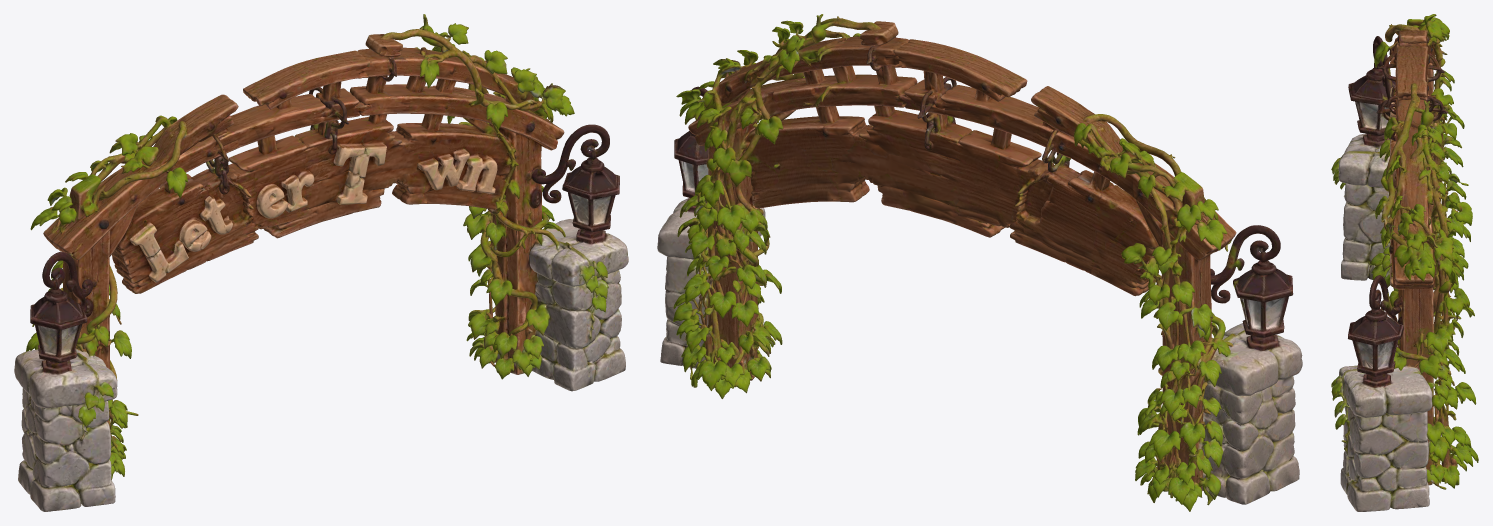
The model's file is archway.glb.
The picture shows the model from 3 angles, left to right: view 1: azimuth 30°, elevation 25°; view 2: azimuth 150°, elevation 25°; view 3: azimuth 270°, elevation 25°; orthographic projection. The views are drawn at different scales.
Bounding box in the file's own units: 1.9 × 1.14 × 0.4465.
Materials: 1 (1 with a texture image).
